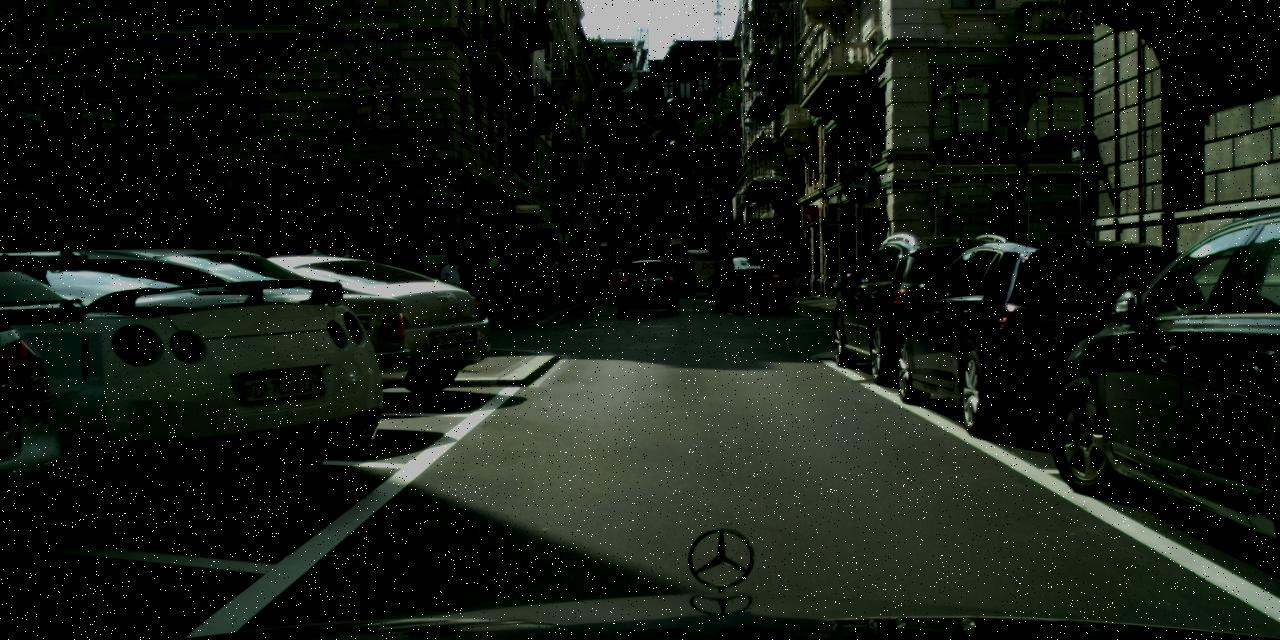ped: (438, 252, 468, 326), (588, 261, 601, 294), (578, 265, 590, 294)
